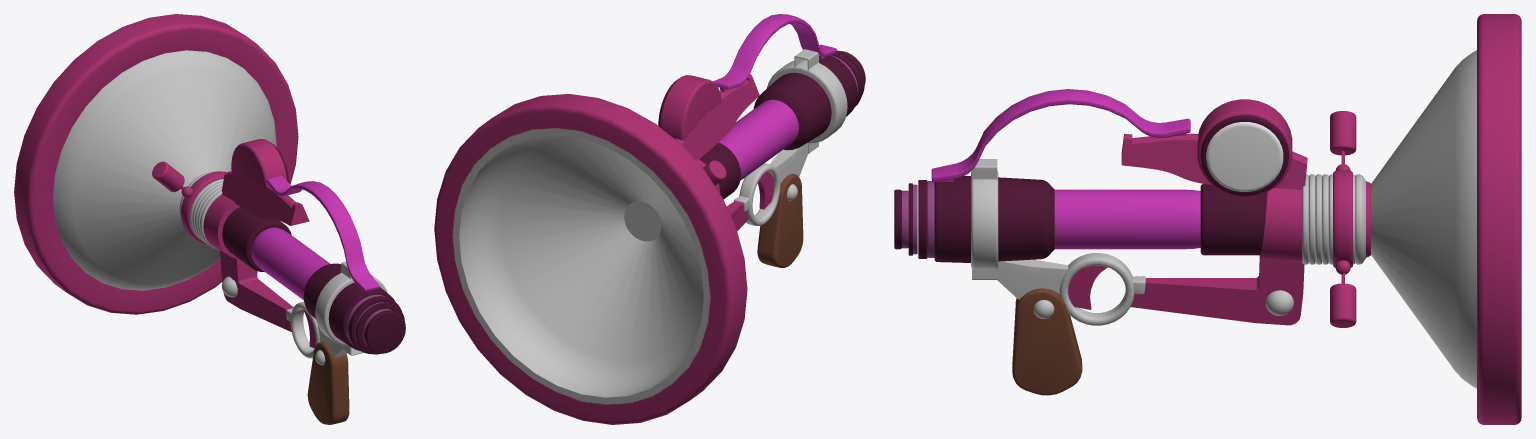
The model's file is arbalet.fbx.
3 views of the same model, side by side, from view 1: azimuth 30°, elevation 25°; view 2: azimuth 150°, elevation 25°; view 3: azimuth 270°, elevation 25° (orthographic). The views are drawn at different scales.
Parts seen in each view (by area): view 1: Cone, Cone.001, Cylinder.009, Cylinder.007, Circle.003, Circle.006, Cylinder.010, Cylinder, Cylinder.008, Circle, Cylinder.006, Circle.004 (+6 smaller); view 2: Cone, Cone.001, Cylinder, Cylinder.007, Circle.006, Circle.003, Circle, Cylinder.010, Circle.004, Cylinder.015, Cylinder.008, Cylinder.009 (+2 smaller); view 3: Cone, Cone.001, Cylinder.009, Cylinder.007, Cylinder, Circle.006, Circle.002, Circle.004, Circle.003, Cylinder.008, Cylinder.010, Cylinder.011 (+11 smaller).
Part boxes in pixels (bbox=[...]): Cone: bbox=[53, 50, 276, 290]; Cone.001: bbox=[14, 14, 298, 314]; Cylinder.009: bbox=[203, 194, 293, 331]; Cylinder.007: bbox=[251, 227, 330, 300]; Circle.003: bbox=[266, 175, 379, 292]; Circle.006: bbox=[307, 341, 349, 424]; Cylinder.010: bbox=[221, 171, 309, 225]; Cylinder: bbox=[303, 263, 394, 350]; Cylinder.008: bbox=[222, 206, 291, 272]; Circle: bbox=[231, 139, 287, 187]; Cylinder.006: bbox=[364, 310, 405, 353]; Circle.004: bbox=[290, 301, 346, 358]; Cone: bbox=[452, 128, 710, 404]; Cone.001: bbox=[434, 94, 747, 424]; Cylinder: bbox=[753, 55, 857, 150]; Cylinder.007: bbox=[719, 99, 798, 180]; Circle.006: bbox=[757, 174, 803, 267]; Circle.003: bbox=[713, 14, 836, 92]; Circle: bbox=[659, 75, 721, 140]; Cylinder.010: bbox=[675, 74, 759, 160]; Circle.004: bbox=[739, 142, 807, 225]; Cylinder.015: bbox=[767, 59, 847, 143]; Cylinder.008: bbox=[699, 142, 740, 199]; Cylinder.009: bbox=[696, 159, 748, 231]; Cone: bbox=[1371, 50, 1476, 388]; Cone.001: bbox=[1477, 14, 1521, 424]; Cylinder.009: bbox=[1130, 188, 1304, 325]; Cylinder.007: bbox=[1054, 189, 1200, 249]; Cylinder: bbox=[934, 176, 1054, 262]; Circle.006: bbox=[1012, 288, 1082, 395]; Circle.002: bbox=[1206, 122, 1283, 191]; Circle.004: bbox=[997, 253, 1134, 325]; Circle.003: bbox=[931, 89, 1190, 182]; Cylinder.008: bbox=[1200, 184, 1265, 255]; Cylinder.010: bbox=[1121, 133, 1307, 189]; Cylinder.011: bbox=[1302, 174, 1355, 264].
Bounding box in the file's own units: 84.87 × 84.87 × 129.
